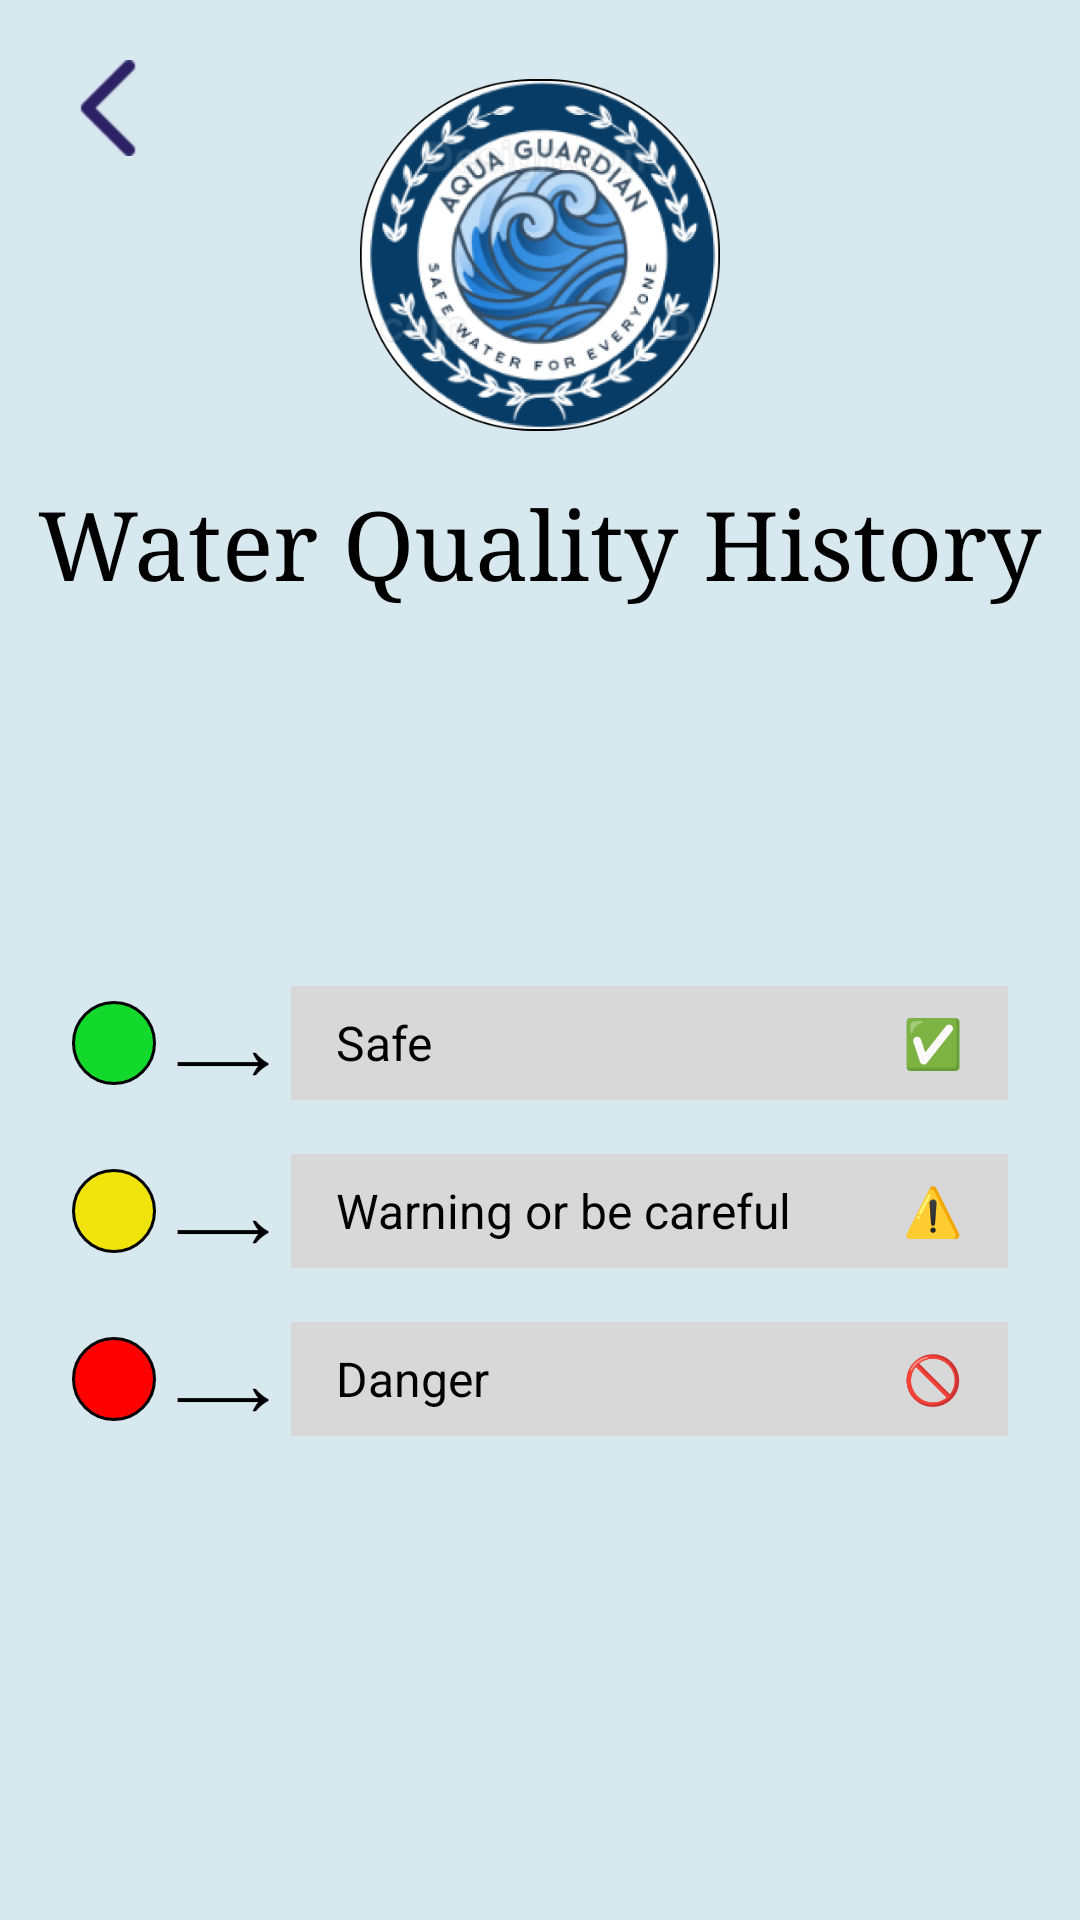

Screen size 1080w x 1920h. Icon name, then its box in pixels as rect(x1, y1, x2, y2):
backarrow: rect(80, 60, 136, 156)
